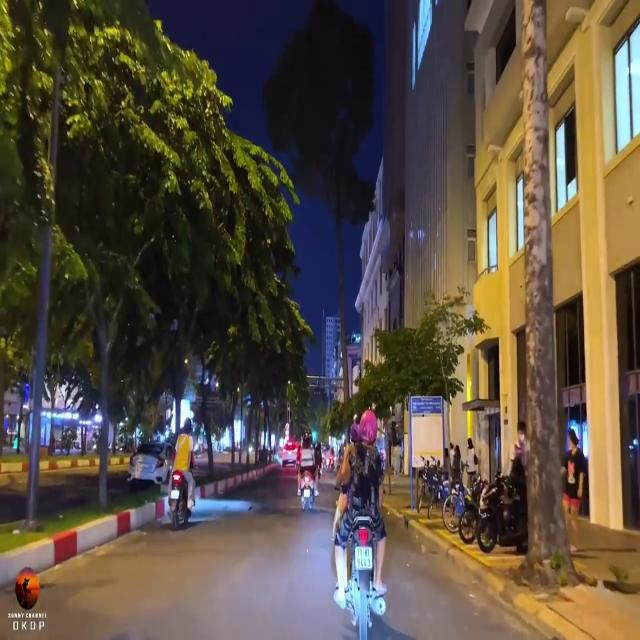bien_trang: (351, 544, 376, 570)
